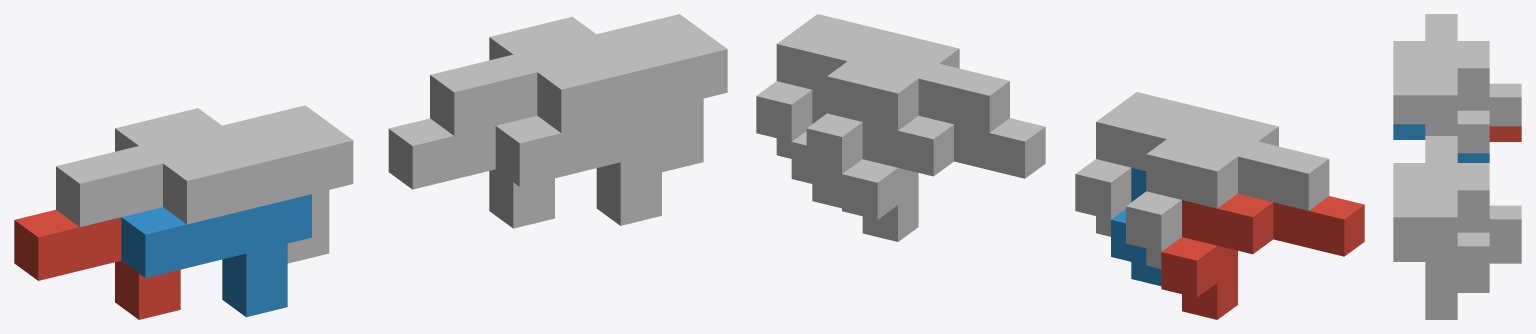
File: tiling.obj
3 views of the same model, side by side, from view 1: azimuth 30°, elevation 25°; view 2: azimuth 150°, elevation 25°; view 3: azimuth 270°, elevation 25° (orthographic). The views are drawn at different scales.
Visible parts, largest first — view 1: copy_1_domain_4, copy_1_domain_8, copy_1_domain_2, copy_1_domain_6, copy_1_domain_7, copy_1_domain_3, copy_1_domain_5, copy_1_domain_1; view 2: copy_1_domain_3, copy_1_domain_7, copy_1_domain_5, copy_1_domain_1, copy_1_domain_8, copy_1_domain_4, copy_1_domain_6, copy_1_domain_2; view 3: copy_1_domain_8, copy_1_domain_4, copy_1_domain_3, copy_1_domain_7, copy_1_domain_6, copy_1_domain_2, copy_1_domain_5, copy_1_domain_1.
Boxes of the visible parts, bbox=[...] form: copy_1_domain_4: bbox=[163, 105, 353, 263]; copy_1_domain_8: bbox=[537, 14, 727, 172]; copy_1_domain_2: bbox=[121, 194, 311, 317]; copy_1_domain_6: bbox=[495, 103, 685, 225]; copy_1_domain_7: bbox=[430, 16, 619, 135]; copy_1_domain_3: bbox=[56, 108, 245, 226]; copy_1_domain_5: bbox=[388, 118, 554, 228]; copy_1_domain_1: bbox=[14, 209, 180, 319]; copy_1_domain_3: bbox=[1126, 124, 1329, 268]; copy_1_domain_7: bbox=[806, 46, 1009, 190]; copy_1_domain_5: bbox=[842, 115, 1045, 241]; copy_1_domain_1: bbox=[1161, 193, 1364, 319]; copy_1_domain_8: bbox=[756, 14, 959, 158]; copy_1_domain_4: bbox=[1075, 92, 1278, 236]; copy_1_domain_6: bbox=[791, 90, 841, 208]; copy_1_domain_2: bbox=[1111, 167, 1161, 285]; copy_1_domain_8: bbox=[1393, 163, 1489, 304]; copy_1_domain_4: bbox=[1393, 41, 1489, 153]; copy_1_domain_3: bbox=[1425, 14, 1521, 126]; copy_1_domain_7: bbox=[1425, 136, 1521, 248]; copy_1_domain_6: bbox=[1393, 246, 1489, 319]; copy_1_domain_2: bbox=[1393, 124, 1489, 162]; copy_1_domain_5: bbox=[1457, 248, 1521, 292]; copy_1_domain_1: bbox=[1489, 126, 1521, 141].
Size of the model in its own units: 16 by 4 by 4.
